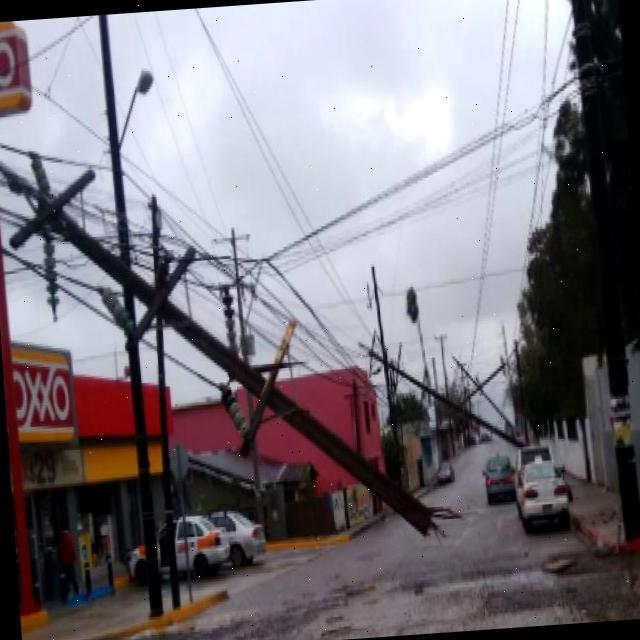Broken Pole: (0, 160, 434, 540)
